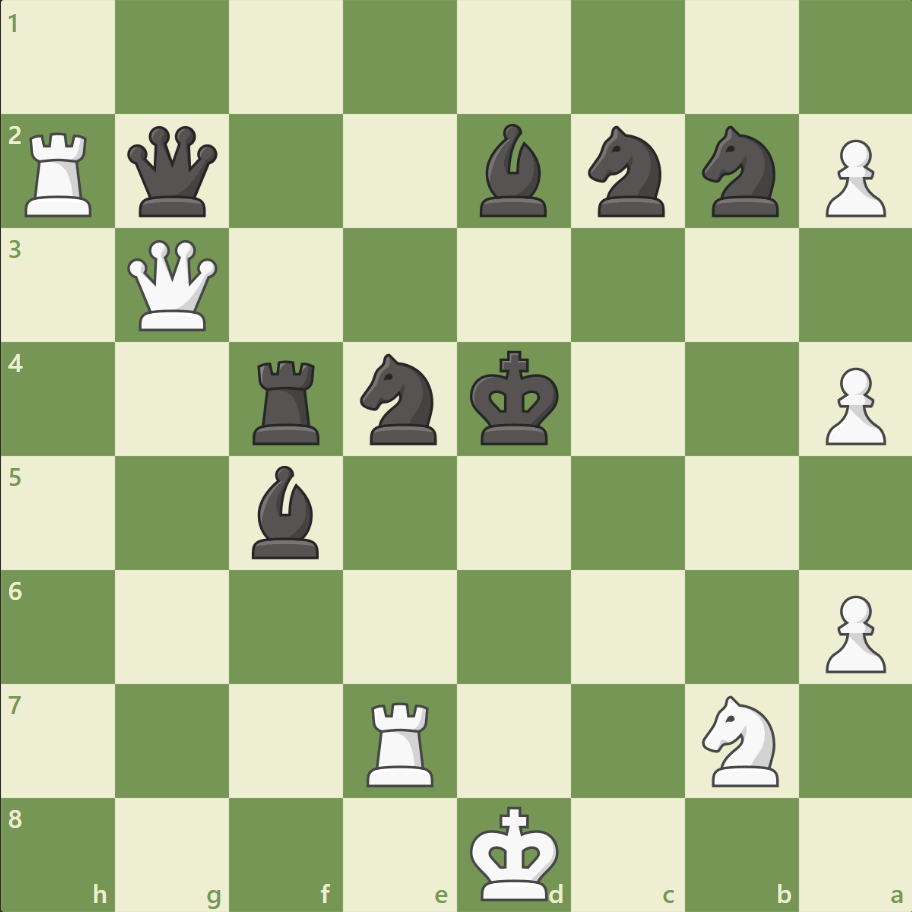K: (465, 798, 565, 906)
N: (692, 688, 789, 791)
P: (815, 586, 889, 677), (815, 359, 889, 450), (815, 132, 889, 223)
Q: (124, 236, 223, 335)
R: (19, 125, 102, 222), (360, 693, 442, 790)
b: (244, 460, 328, 563), (471, 120, 555, 222)
k: (465, 344, 565, 452)
n: (351, 348, 449, 450), (692, 121, 789, 223), (579, 121, 676, 223)
q: (124, 122, 223, 222)
r: (246, 352, 329, 449)
